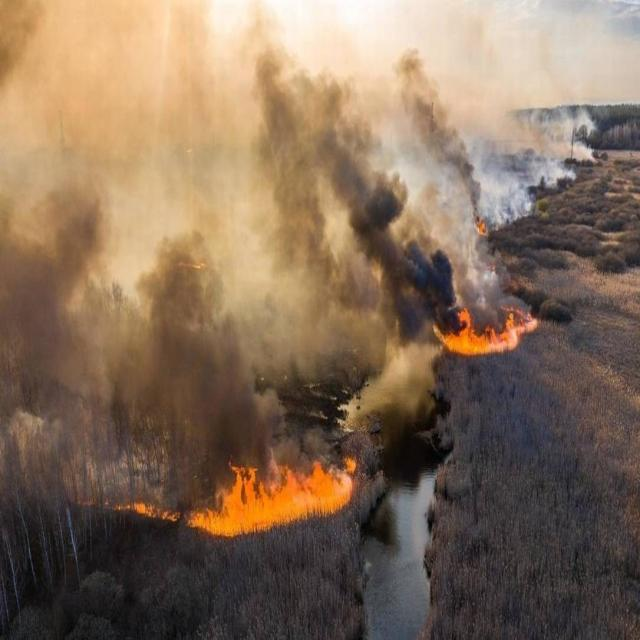Fire: (185, 452, 357, 538), (443, 306, 538, 356), (114, 501, 182, 522), (478, 218, 488, 236)
Smoke: (1, 1, 596, 520)
